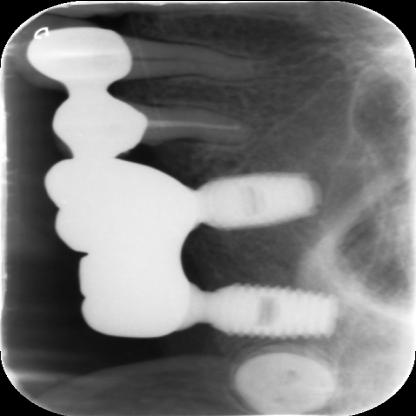Bicon: (180, 278, 336, 346), (169, 171, 324, 230)
